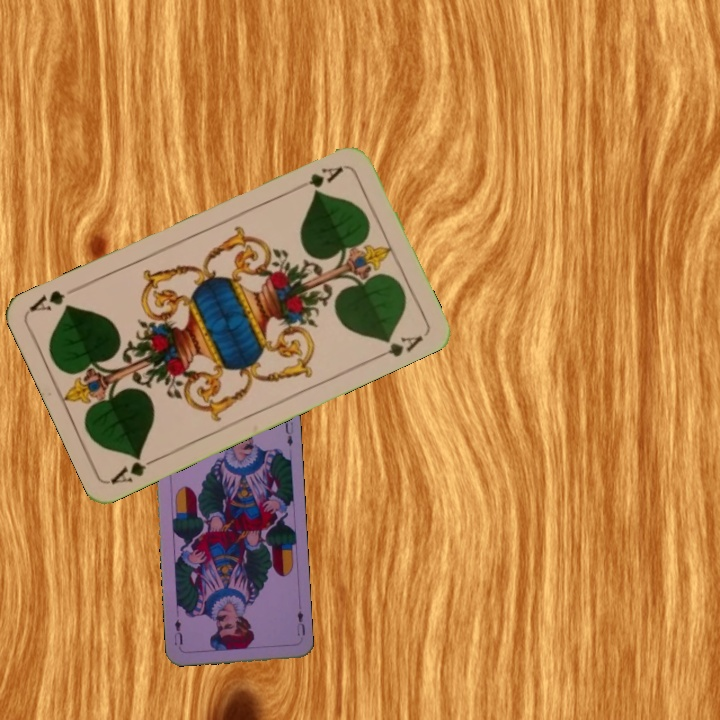EU: (293, 607, 308, 638)
GA: (107, 451, 163, 487), (304, 162, 346, 194)
